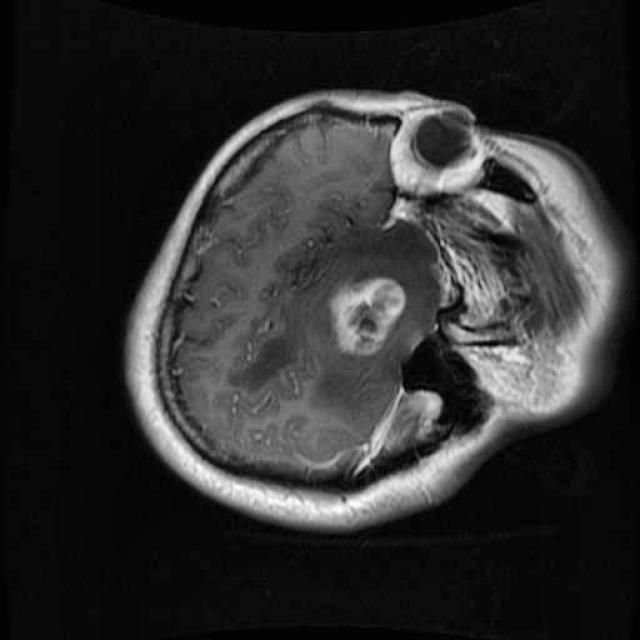Non-Tumor: (314, 254, 418, 374)
